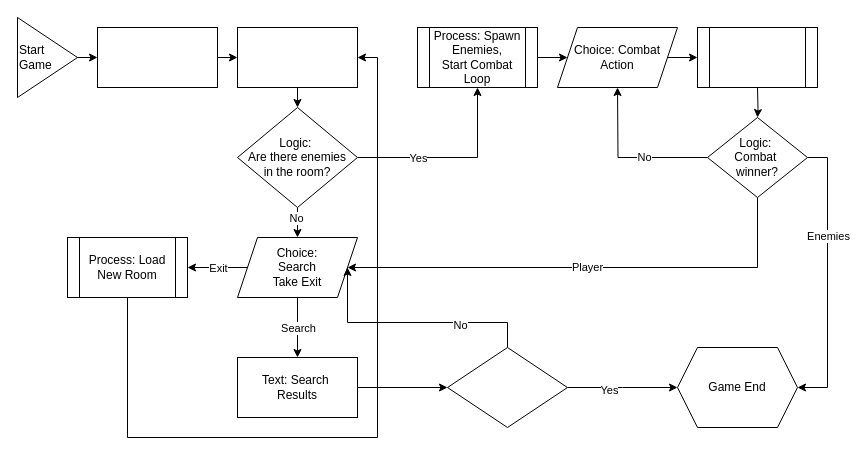
The diagram is 867 pixels wide and 463 high, and some of its shapes have lost their labels. Each missing label, with the box of its shape:
Logic: Game Won?: (446, 346, 568, 428)
Process: Apply player action, take enemy turn: (696, 26, 818, 88)
Tex t: Room Description: (236, 26, 358, 88)
Text: Dungeon Description: (96, 26, 218, 88)
